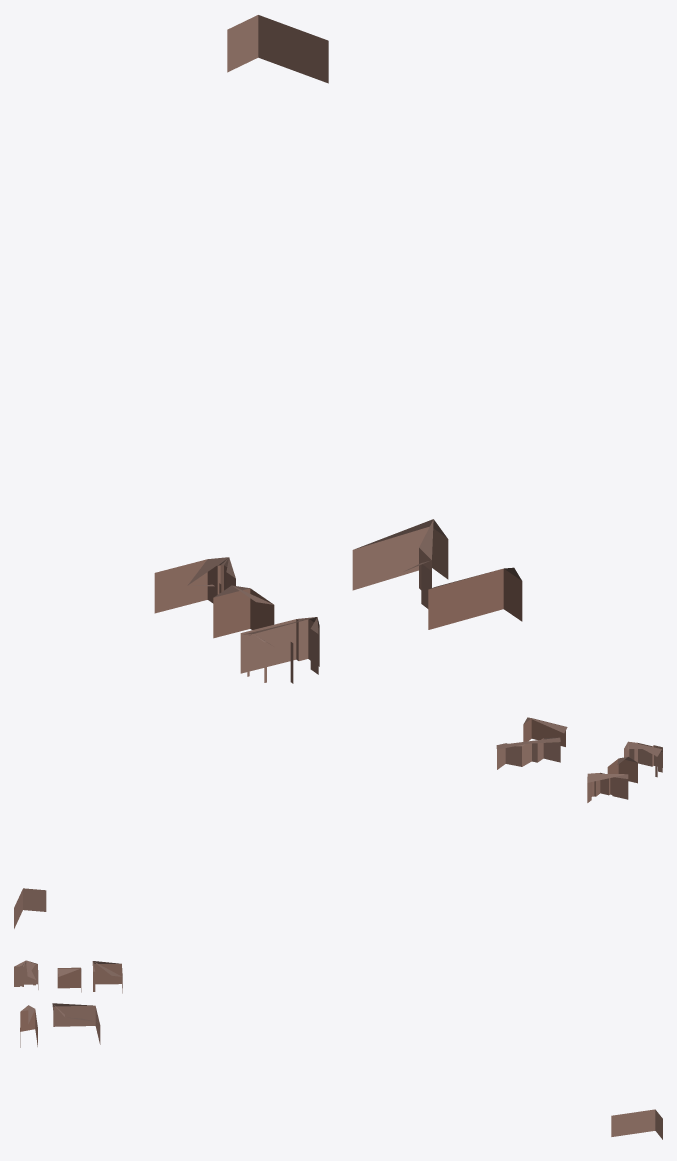
Rendered from c_1637_17834_buildings_residential.glb.
The picture shows the model from 3 angles, top to bottom: view 1: azimuth 30°, elevation 25°; view 2: azimuth 150°, elevation 25°; view 3: azimuth 270°, elevation 25°; orthographic projection. The views are drawn at different scales.
Visible parts, largest first — view 1: geometry_0; view 2: geometry_0; view 3: geometry_0.
Boxes of the visible parts, left/top/right/bottom form: geometry_0: left=154, top=15, right=522, bottom=683; geometry_0: left=14, top=717, right=662, bottom=928; geometry_0: left=14, top=960, right=662, bottom=1139.
Bounding box in the file's own units: 156 × 10.93 × 261.
